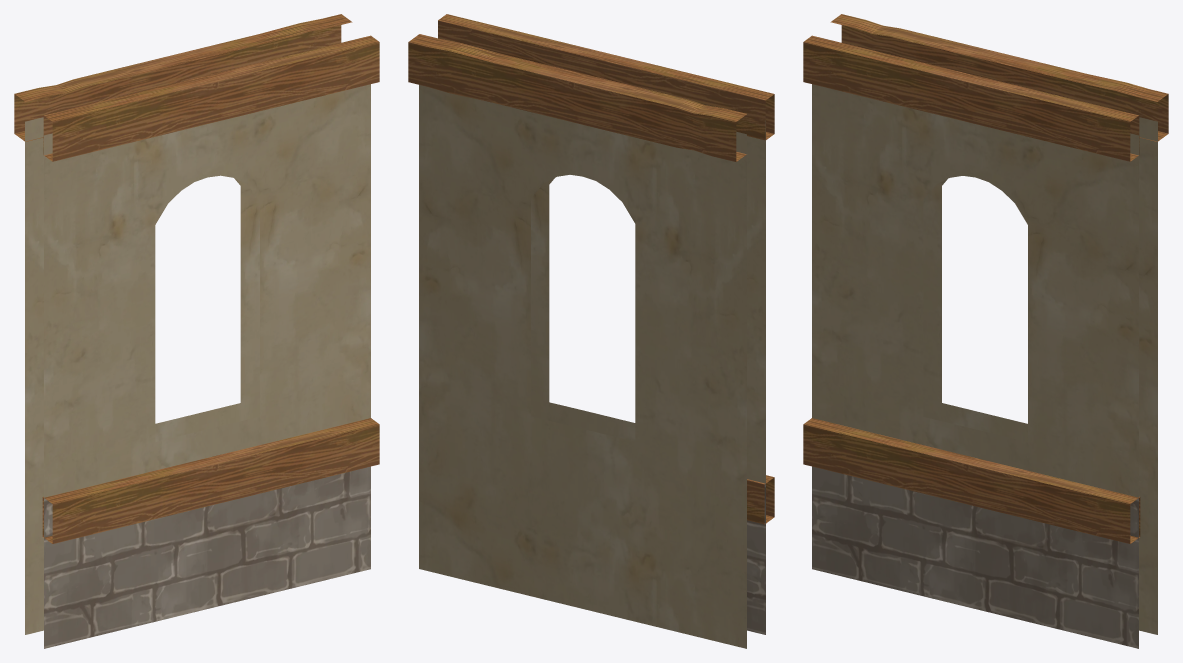
The model's file is Wall_Plaster_Window_Thin_Round.glb.
3 renders of one model, left to right at view 1: azimuth 30°, elevation 25°; view 2: azimuth 150°, elevation 25°; view 3: azimuth 330°, elevation 25°, orthographic.
Parts seen in each view (by area): view 1: Wall_Plaster_Window_Thin_Round; view 2: Wall_Plaster_Window_Thin_Round; view 3: Wall_Plaster_Window_Thin_Round.
Part boxes in pixels (box(x1,y1,x2,y2)): Wall_Plaster_Window_Thin_Round: box(14, 14, 379, 648); Wall_Plaster_Window_Thin_Round: box(408, 14, 774, 648); Wall_Plaster_Window_Thin_Round: box(803, 14, 1168, 648).
Size of the model in its own units: 2 by 3.12 by 0.4064.
Materials: 3 (3 with a texture image).
